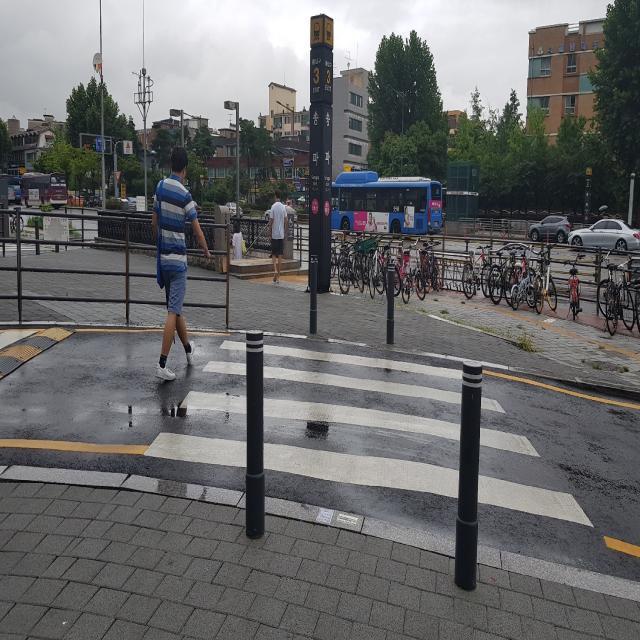횡단보도: (142, 336, 598, 532)
